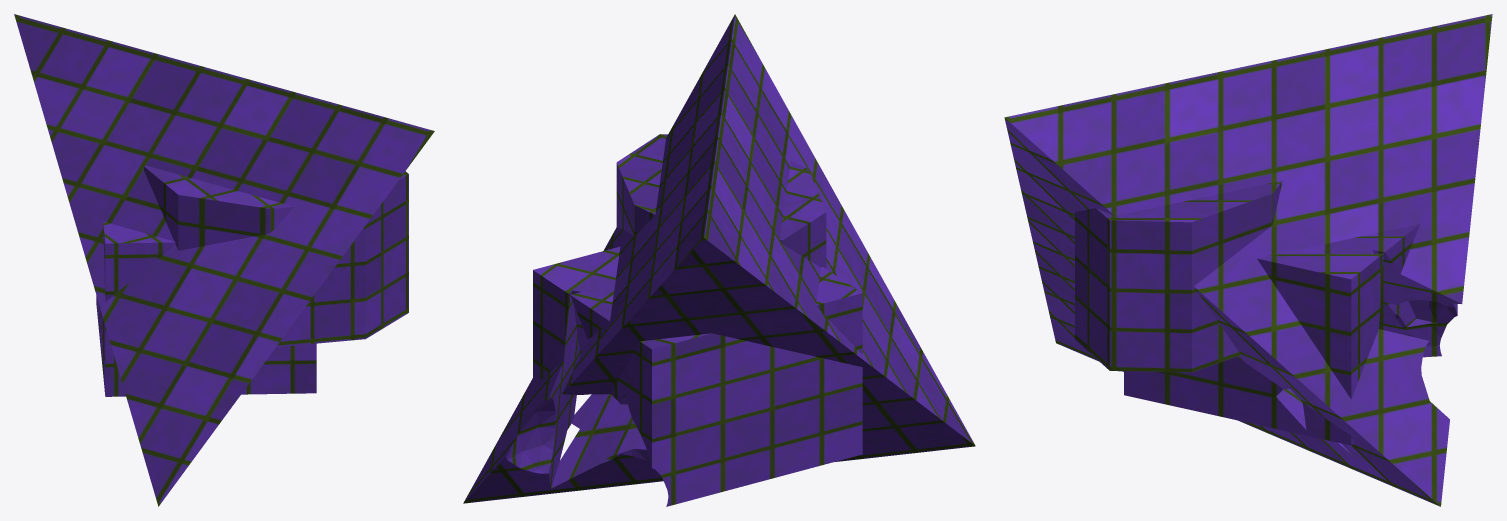
3 views of the same model, side by side, from view 1: azimuth 30°, elevation 25°; view 2: azimuth 150°, elevation 25°; view 3: azimuth 270°, elevation 25° (orthographic). The views are drawn at different scales.
Parts seen in each view (by area): view 1: geometry_0; view 2: geometry_0; view 3: geometry_0.
Boxes of the visible parts, x1,y1,x2,y2 form: geometry_0: (14,14,434,506); geometry_0: (463,14,975,506); geometry_0: (1004,14,1492,506).
Size of the model in its own units: 1.39 by 1.42 by 1.75.
Materials: 1 (1 with a texture image).
